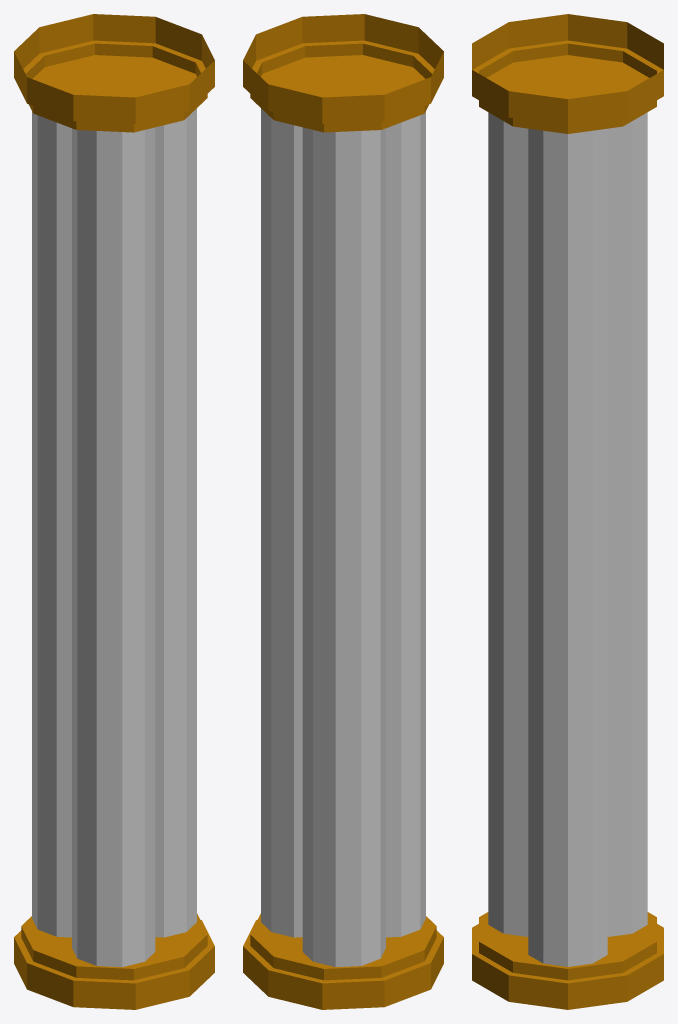
The model's file is Mesh_Triple_Beam01.fbx.
The picture shows the model from 3 angles, left to right: view 1: azimuth 30°, elevation 25°; view 2: azimuth 150°, elevation 25°; view 3: azimuth 270°, elevation 25°; orthographic projection.
Parts seen in each view (by area): view 1: Mesh_Triple_Beam01; view 2: Mesh_Triple_Beam01; view 3: Mesh_Triple_Beam01.
Part boxes in pixels (x1,y1,x2,y2): Mesh_Triple_Beam01: (14, 14, 214, 1009); Mesh_Triple_Beam01: (243, 14, 443, 1009); Mesh_Triple_Beam01: (472, 14, 663, 1009).
Size of the model in its own units: 4.82 by 24 by 4.58.
